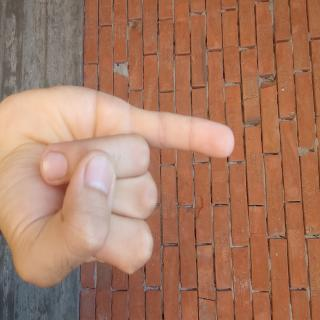MEEM: (56, 104, 223, 320)
